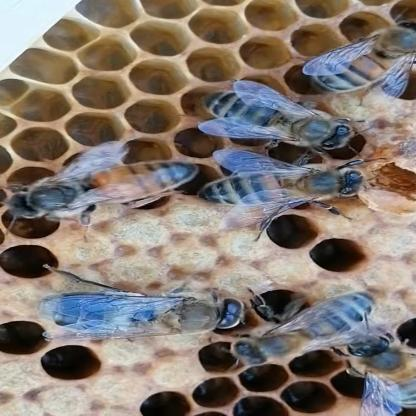bee: (208, 271, 416, 416), (0, 128, 213, 220), (166, 72, 369, 155), (38, 275, 250, 346), (200, 161, 394, 229), (298, 13, 416, 115)
